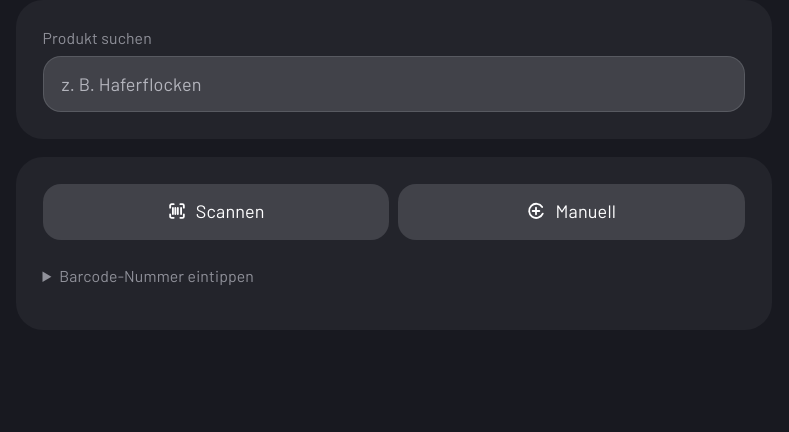
Test: AddEntryFlow › offers quick amounts and focuses the amount field
Click the button "Scannen". click: (216, 212)
box: [42,184,389,240]
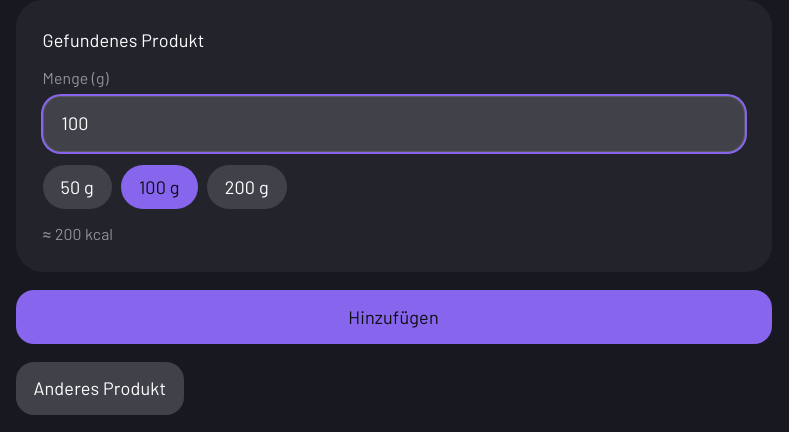
Click the button "200 g". click: (247, 187)
box: [207,165,287,209]
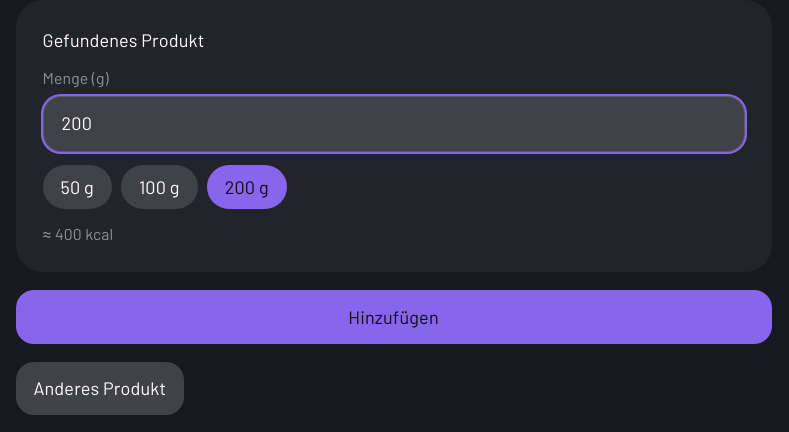
Now the field labelled "Menge (g)" holds "200"
Now the text "≈ 400 kcal" is shown, box [42,224,113,243]
Note: A comma is a decimal mark, not an error.
Replace the text in the field labelled "Menge (g)" with "12,5". click: (394, 124)
box: [42,96,744,152]
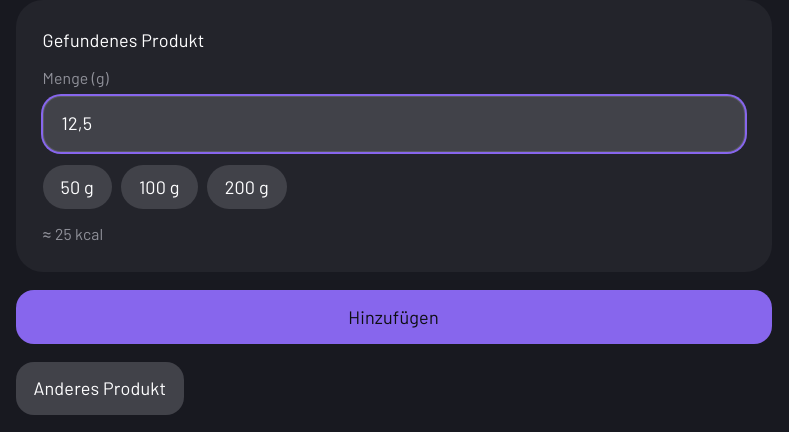
Now the text "≈ 25 kcal" is shown, box [42,224,103,243]
